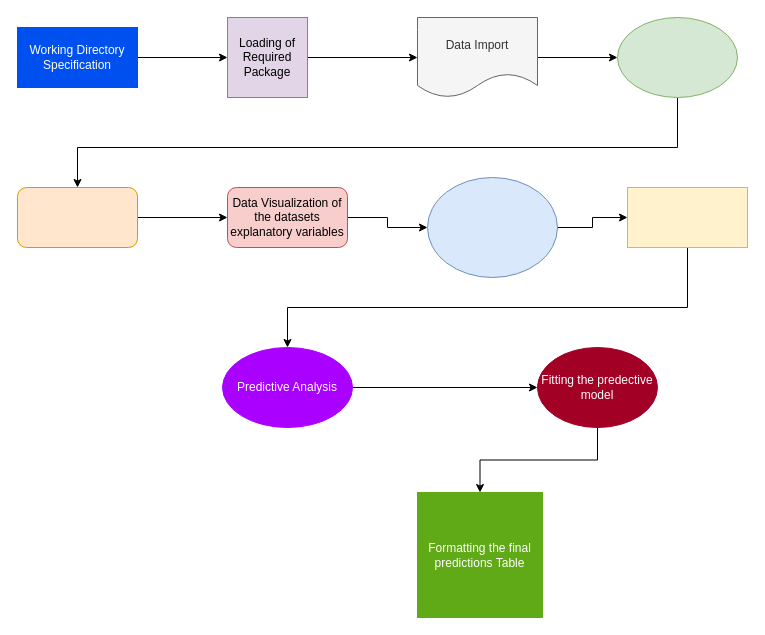
Some shapes in this 765 by 635 pixel diagram are drawn without their labels. Each missing label, with the centre of its shape:
cross tabuliton of the explanatory variables and response variables: the point at 492,227
Data Cleaning: the point at 677,57
Examinition of the categories of the Datasets: the point at 77,217
select explanatory variables for Data clustering: the point at 687,217
